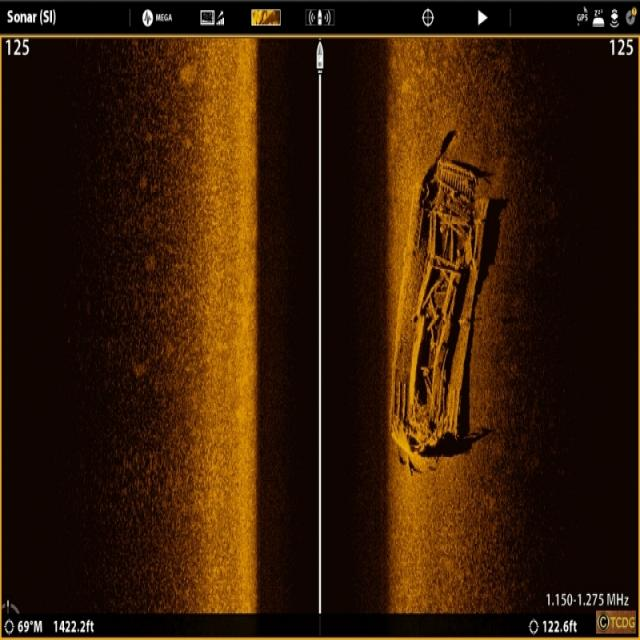ship: (387, 140, 482, 464)
